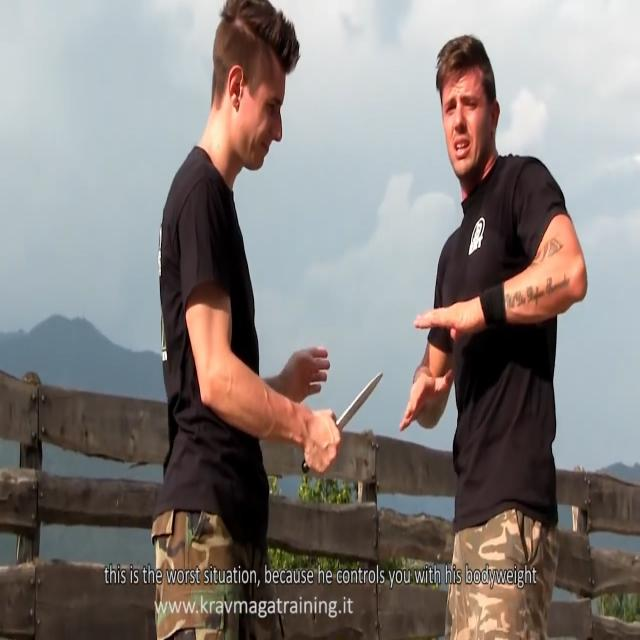knife: (336, 367, 387, 441)
